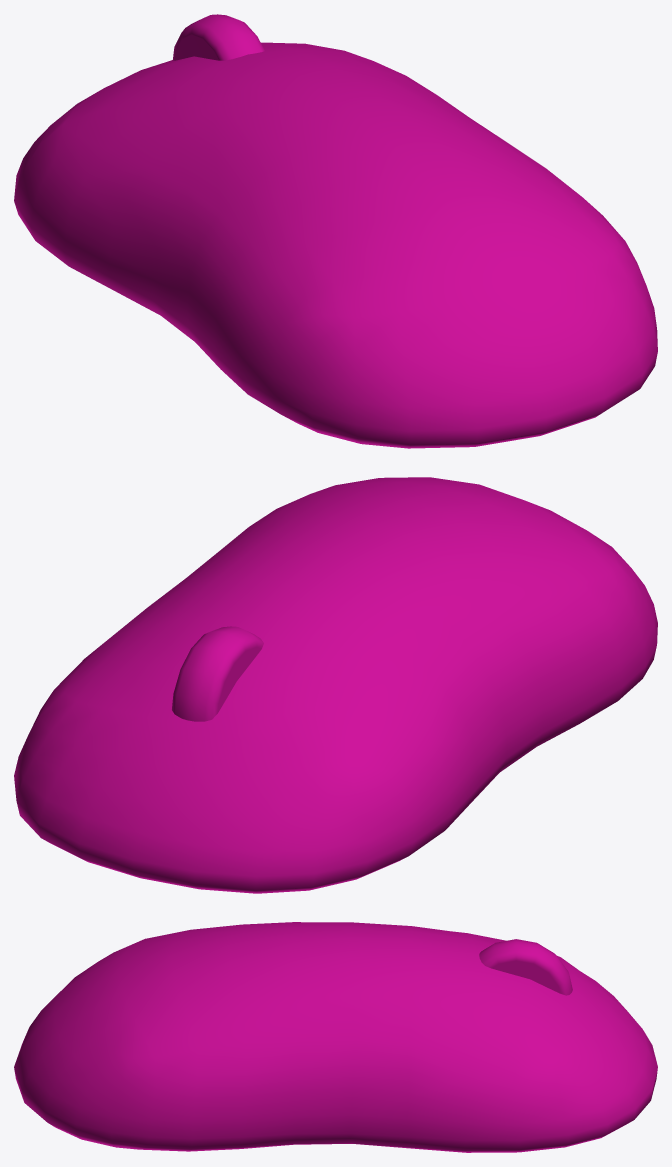
File: SM_Mouse.fbx
3 renders of one model, top to bottom at view 1: azimuth 30°, elevation 25°; view 2: azimuth 150°, elevation 25°; view 3: azimuth 270°, elevation 25°, orthographic. The views are drawn at different scales.
Parts seen in each view (by area): view 1: SM_Mouse; view 2: SM_Mouse; view 3: SM_Mouse.
Part boxes in pixels (x1,y1,x2,y2): SM_Mouse: [14, 14, 657, 448]; SM_Mouse: [14, 477, 657, 893]; SM_Mouse: [14, 922, 657, 1152].
Size of the model in its own units: 7.42 by 3.46 by 13.78.
